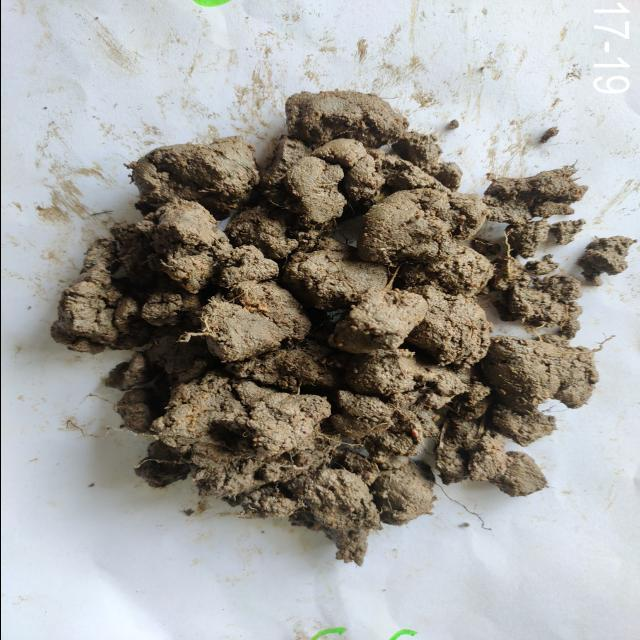soil: (188, 208, 490, 448)
